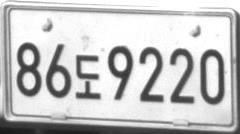0: (199, 48, 225, 105)
2: (138, 46, 164, 103), (169, 47, 195, 104)
6: (45, 43, 72, 99)
8: (15, 41, 42, 97)
9: (107, 45, 134, 100)
도: (75, 54, 101, 99)
